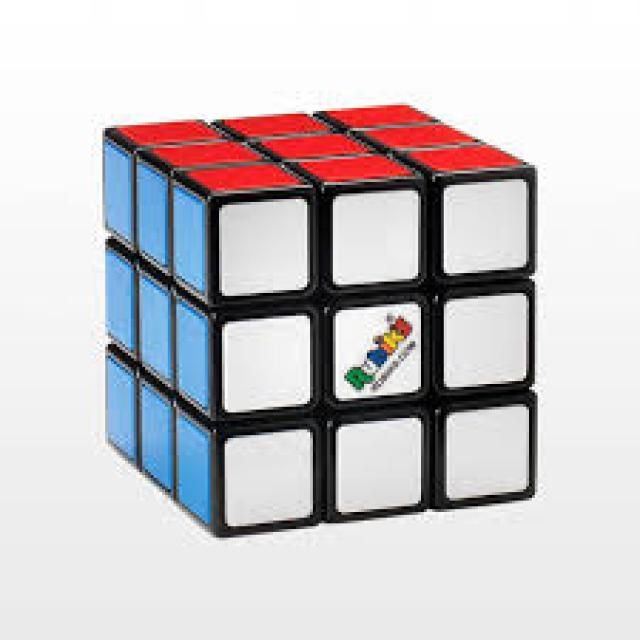Cube-3x3: (101, 125, 539, 498)
